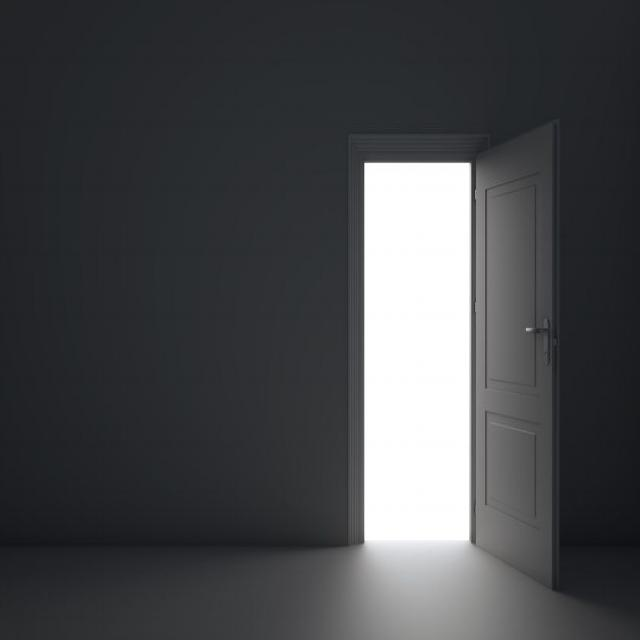open: (350, 136, 560, 578)
